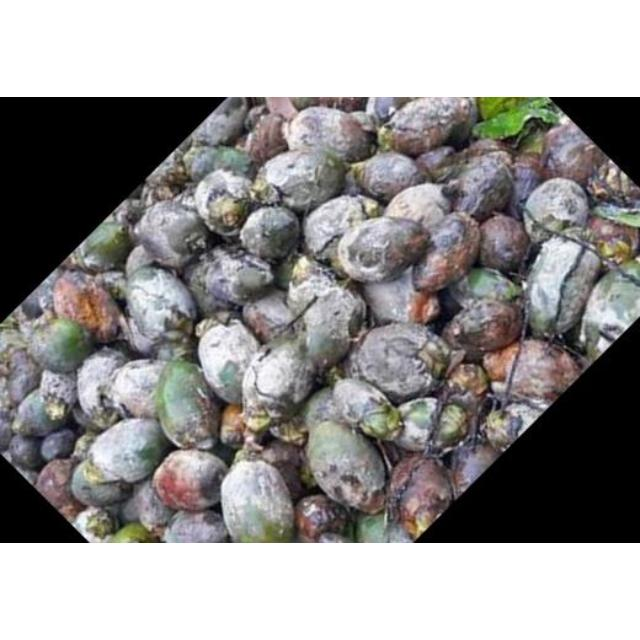damaged: (347, 321, 451, 404), (522, 235, 602, 341), (305, 420, 391, 514), (240, 336, 322, 424), (219, 458, 297, 542), (408, 212, 484, 294), (154, 360, 223, 450), (336, 216, 434, 278), (124, 266, 198, 348), (260, 148, 348, 216), (297, 282, 365, 368), (386, 454, 454, 540), (86, 419, 170, 487), (377, 98, 473, 156), (441, 294, 524, 360), (52, 270, 126, 344), (302, 194, 376, 266), (134, 200, 210, 270), (197, 321, 260, 405), (286, 105, 376, 163), (152, 448, 230, 514), (442, 154, 514, 222), (198, 246, 276, 308), (358, 270, 434, 328), (74, 350, 132, 426), (522, 177, 590, 241), (192, 166, 256, 234), (330, 378, 400, 440), (540, 122, 602, 188), (352, 151, 424, 203), (110, 358, 168, 422), (382, 183, 454, 233), (238, 205, 300, 262), (28, 317, 90, 373), (476, 214, 530, 274), (13, 386, 73, 438), (190, 97, 252, 147), (77, 218, 133, 272), (241, 294, 297, 342), (187, 144, 255, 183)
